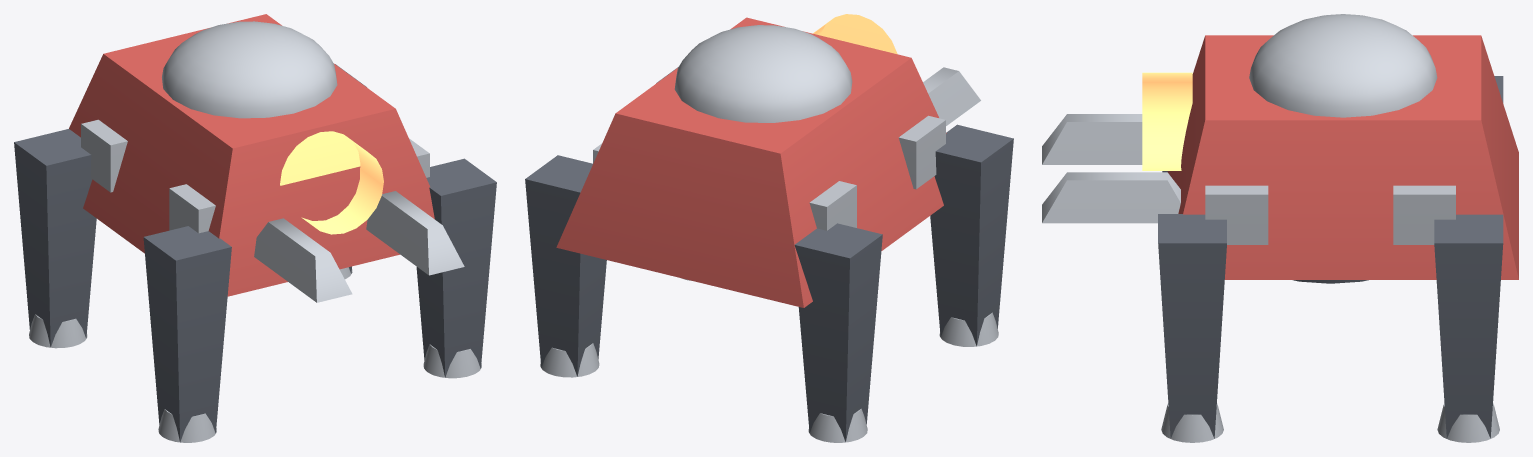
The model's file is dron.glb.
The picture shows the model from 3 angles, left to right: view 1: azimuth 30°, elevation 25°; view 2: azimuth 150°, elevation 25°; view 3: azimuth 270°, elevation 25°; orthographic projection. The views are drawn at different scales.
Visible parts, largest first — view 1: Hull; view 2: Hull; view 3: Hull.
Boxes of the visible parts, bbox=[...] form: Hull: bbox=[14, 14, 496, 442]; Hull: bbox=[525, 14, 1013, 442]; Hull: bbox=[1042, 14, 1518, 442].
Bounding box in the file's own units: 0.5985 × 0.5565 × 0.722.
